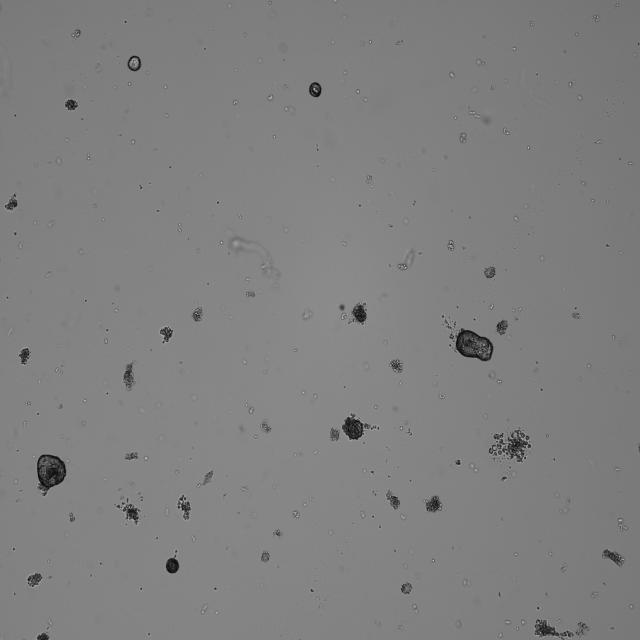alive: (453, 325, 494, 367), (36, 454, 68, 489), (340, 413, 364, 443), (350, 300, 368, 324), (126, 54, 143, 73), (164, 556, 181, 574), (308, 80, 323, 100)
dead: (385, 488, 402, 510), (424, 494, 442, 514), (2, 193, 21, 211), (18, 345, 32, 366), (160, 324, 174, 344), (482, 264, 498, 281), (64, 97, 80, 112), (400, 580, 414, 596)
